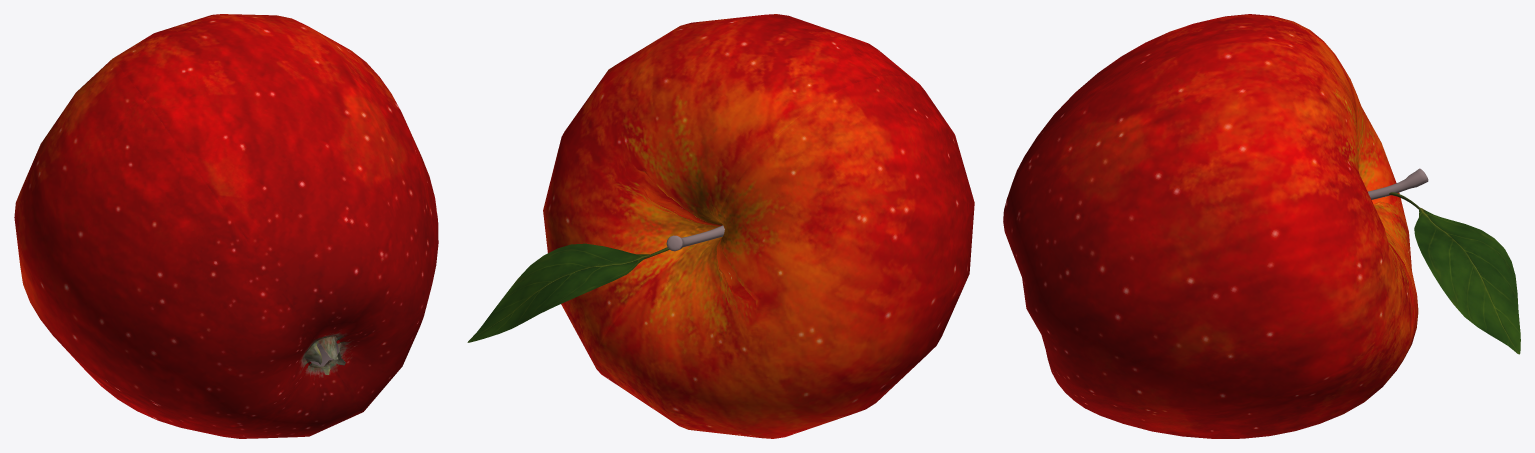
Rendered from Apple_MPI01_fbx.fbx.
The picture shows the model from 3 angles, left to right: view 1: azimuth 30°, elevation 25°; view 2: azimuth 150°, elevation 25°; view 3: azimuth 270°, elevation 25°; orthographic projection.
Visible parts, largest first — view 1: apple; view 2: apple; view 3: apple.
Boxes of the visible parts, box(x1,y1,x2,y2) form: apple: box(14, 14, 438, 438); apple: box(467, 14, 974, 438); apple: box(1003, 14, 1520, 438).
Bounding box in the file's own units: 8.18 × 8.17 × 10.03.
Materials: 3 (2 with a texture image).
